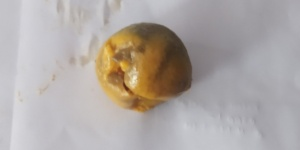BAD: (95, 20, 193, 114)
